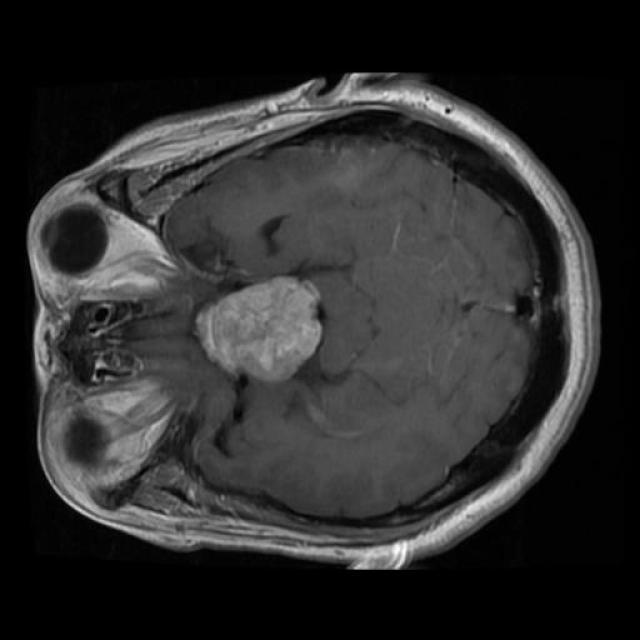Pituitary: (195, 277, 322, 382)
